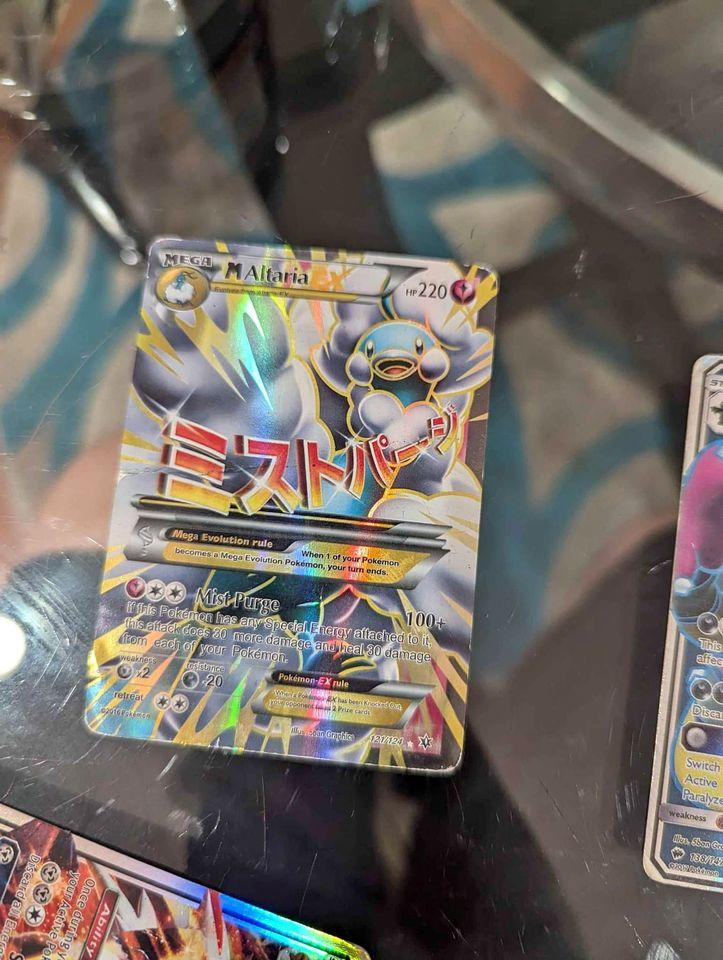card: (84, 237, 499, 771), (0, 800, 371, 960), (642, 354, 723, 894)
